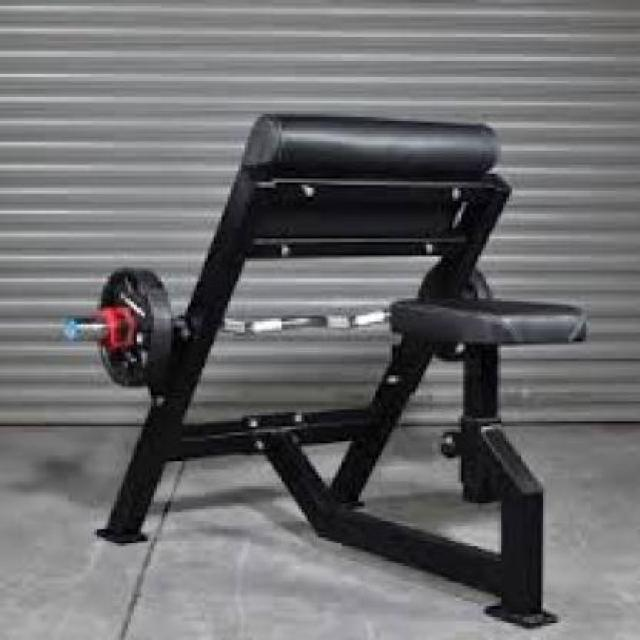arm curl machine: (69, 112, 588, 632)
